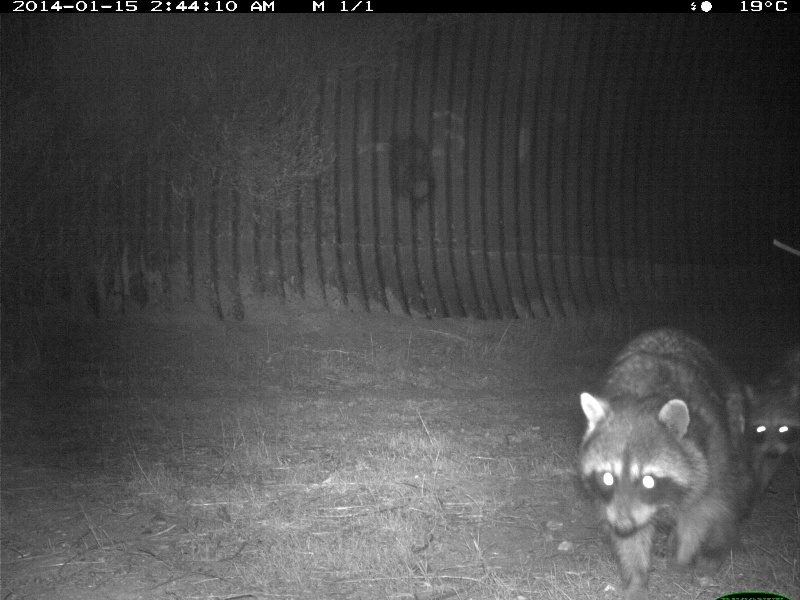raccoon: (571, 321, 759, 586), (741, 344, 799, 499)
